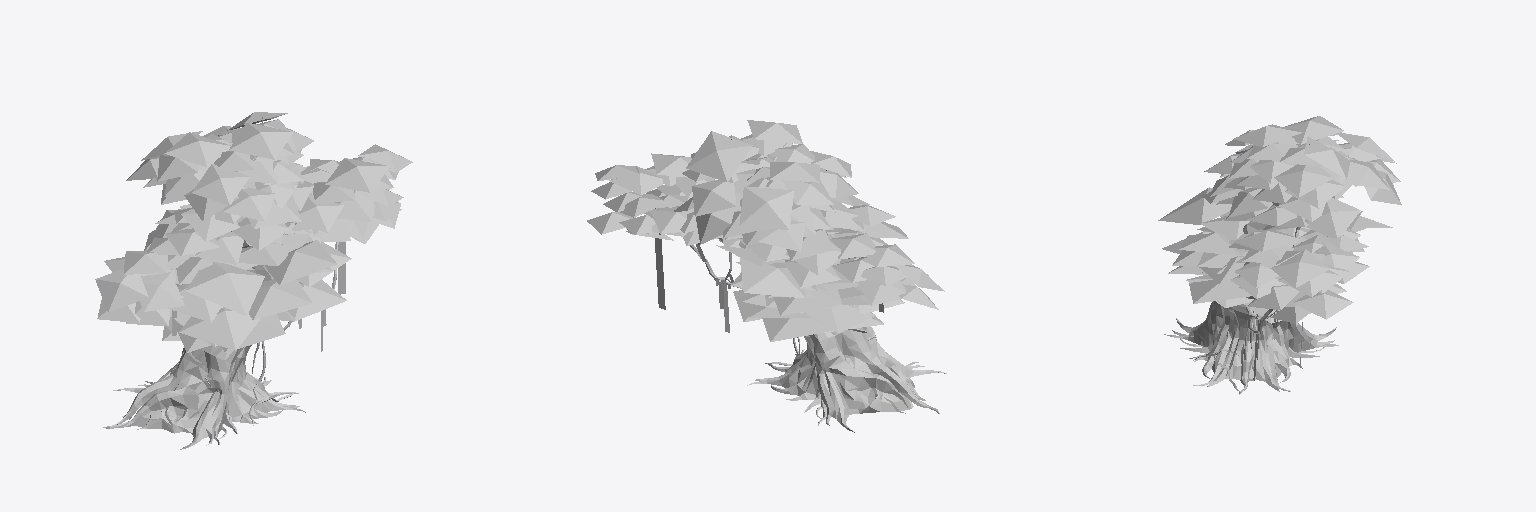
The model's file is Game Ready Fantasy Tree_Obj.obj.
The picture shows the model from 3 angles: view 1: azimuth 30°, elevation 25°; view 2: azimuth 150°, elevation 25°; view 3: azimuth 270°, elevation 25°; orthographic projection.
Visible parts, largest first — view 1: tree_03; view 2: tree_03; view 3: tree_03.
Part boxes in pixels (bbox=[...]): tree_03: bbox=[95, 112, 412, 449]; tree_03: bbox=[587, 120, 946, 432]; tree_03: bbox=[1158, 116, 1401, 394].
Bounding box in the file's own units: 347 × 259 × 222.